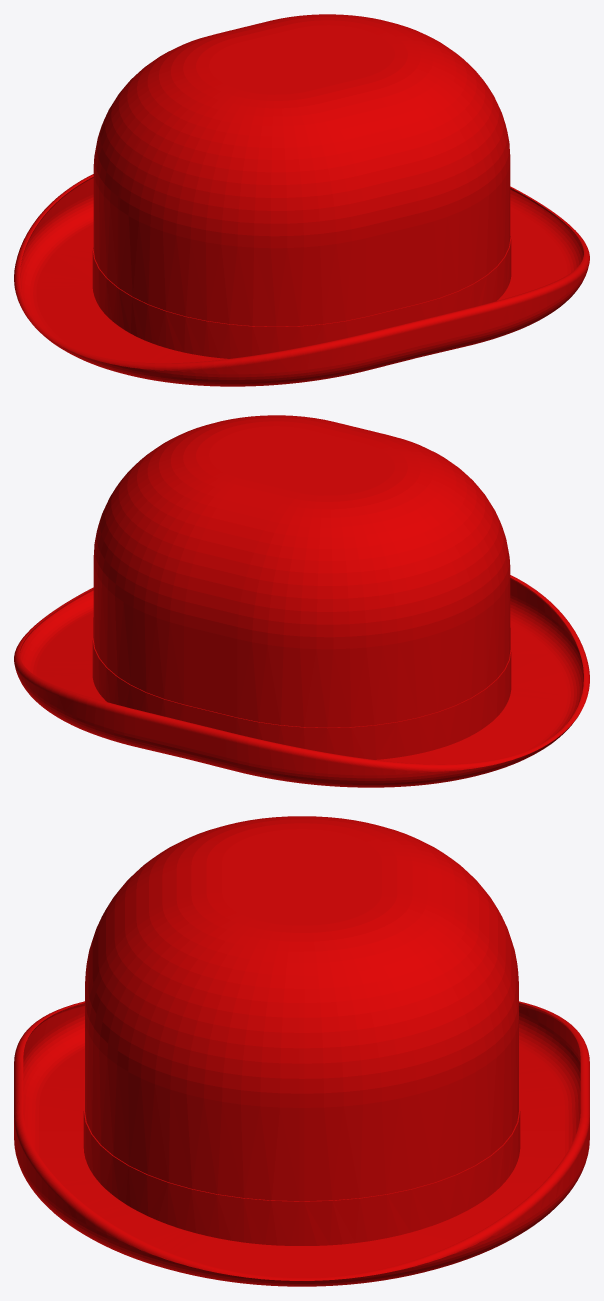
File: sssss.dae
The picture shows the model from 3 angles, top to bottom: view 1: azimuth 30°, elevation 25°; view 2: azimuth 150°, elevation 25°; view 3: azimuth 270°, elevation 25°; orthographic projection. The views are drawn at different scales.
Visible parts, largest first — view 1: Bowler; view 2: Bowler; view 3: Bowler.
Boxes of the visible parts, <box> form: Bowler: <box>14,14,589,386</box>; Bowler: <box>14,415,589,787</box>; Bowler: <box>14,816,589,1286</box>.
Size of the model in its own units: 0.3048 by 0.252 by 0.13.
